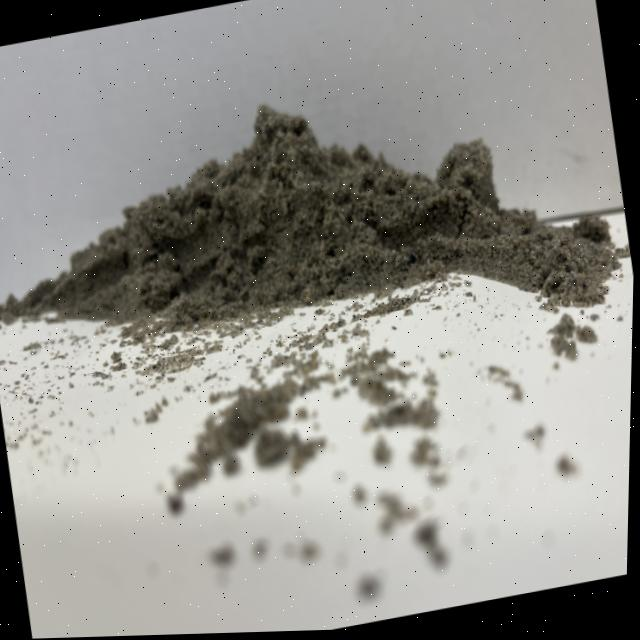sand: (0, 38, 578, 396)
